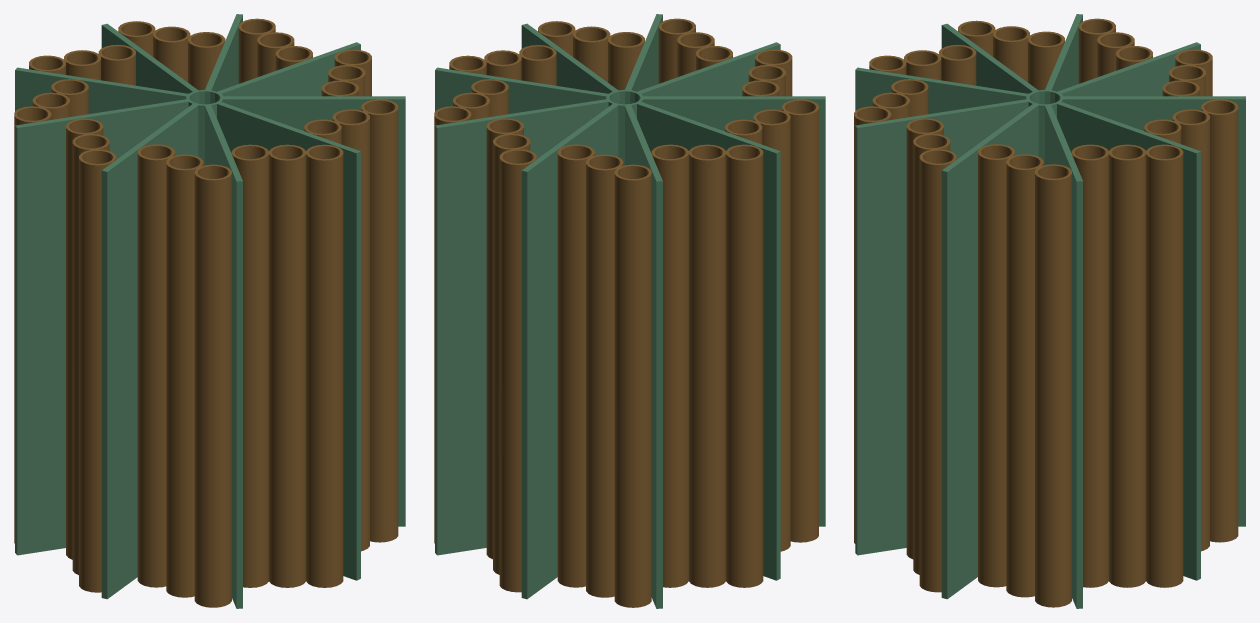
Rendered from Centriole.obj.
3 renders of one model, left to right at view 1: azimuth 30°, elevation 25°; view 2: azimuth 150°, elevation 25°; view 3: azimuth 270°, elevation 25°, orthographic.
Parts seen in each view (by area): view 1: Centriole Centriole Cell, Centriole Cell Microtubule1 Microtubule_Triplet_6, Centriole Cell Microtubule1 Microtubule_Triplet_5, Centriole Cell Microtubule_Triplet_5 Microtubule2, Centriole Cell Microtubule_Triplet_6 Microtubule3, Centriole Cell Microtubule1 Microtubule_Triplet_4, Centriole Cell Microtubule_Triplet_6 Microtubule2, Centriole Cell Microtubule_Triplet_5 Microtubule3, Centriole Cell Microtubule1 Microtubule_Triplet_7, Centriole Cell Microtubule_Triplet_4 Microtubule2, Centriole Cell Microtubule_Triplet_7 Microtubule3, Centriole Cell Microtubule_Triplet_7 Microtubule2 (+16 smaller); view 2: Centriole Centriole Cell, Centriole Cell Microtubule1 Microtubule_Triplet_9, Centriole Cell Microtubule1 Microtubule_Triplet_8, Centriole Cell Microtubule_Triplet_8 Microtubule2, Centriole Cell Microtubule_Triplet_9 Microtubule2, Centriole Cell Microtubule_Triplet_9 Microtubule3, Centriole Cell Microtubule1 Microtubule_Triplet_7, Centriole Cell Microtubule_Triplet_8 Microtubule3, Centriole Cell Microtubule1 Microtubule_Triplet_1, Centriole Cell Microtubule_Triplet_7 Microtubule2, Centriole Cell Microtubule_Triplet_1 Microtubule2, Centriole Cell Microtubule_Triplet_1 Microtubule3 (+16 smaller); view 3: Centriole Centriole Cell, Centriole Cell Microtubule1 Microtubule_Triplet_2, Centriole Cell Microtubule1 Microtubule_Triplet_3, Centriole Cell Microtubule_Triplet_2 Microtubule2, Centriole Cell Microtubule1 Microtubule_Triplet_1, Centriole Cell Microtubule_Triplet_3 Microtubule2, Centriole Cell Microtubule_Triplet_3 Microtubule3, Centriole Cell Microtubule_Triplet_2 Microtubule3, Centriole Cell Microtubule1 Microtubule_Triplet_4, Centriole Cell Microtubule_Triplet_1 Microtubule2, Centriole Cell Microtubule_Triplet_4 Microtubule3, Centriole Cell Microtubule_Triplet_4 Microtubule2 (+16 smaller).
Boxes of the visible parts, x1,y1,x2,y2 form: Centriole Centriole Cell: (15, 14, 405, 608); Centriole Cell Microtubule1 Microtubule_Triplet_6: (194, 164, 231, 607); Centriole Cell Microtubule1 Microtubule_Triplet_5: (306, 144, 343, 587); Centriole Cell Microtubule_Triplet_5 Microtubule2: (269, 144, 305, 587); Centriole Cell Microtubule_Triplet_6 Microtubule3: (137, 144, 174, 587); Centriole Cell Microtubule1 Microtubule_Triplet_4: (361, 99, 398, 542); Centriole Cell Microtubule_Triplet_6 Microtubule2: (166, 154, 203, 597); Centriole Cell Microtubule_Triplet_5 Microtubule3: (231, 144, 268, 587); Centriole Cell Microtubule1 Microtubule_Triplet_7: (79, 149, 116, 592); Centriole Cell Microtubule_Triplet_4 Microtubule2: (332, 109, 369, 551); Centriole Cell Microtubule_Triplet_7 Microtubule3: (66, 118, 103, 559); Centriole Cell Microtubule_Triplet_7 Microtubule2: (72, 134, 109, 574); Centriole Centriole Cell: (435, 14, 825, 608); Centriole Cell Microtubule1 Microtubule_Triplet_9: (614, 164, 651, 607); Centriole Cell Microtubule1 Microtubule_Triplet_8: (726, 144, 763, 587); Centriole Cell Microtubule_Triplet_8 Microtubule2: (689, 144, 725, 587); Centriole Cell Microtubule_Triplet_9 Microtubule2: (586, 154, 623, 597); Centriole Cell Microtubule_Triplet_9 Microtubule3: (557, 144, 594, 587); Centriole Cell Microtubule1 Microtubule_Triplet_7: (782, 99, 818, 542); Centriole Cell Microtubule_Triplet_8 Microtubule3: (651, 144, 688, 587); Centriole Cell Microtubule1 Microtubule_Triplet_1: (499, 149, 536, 592); Centriole Cell Microtubule_Triplet_7 Microtubule2: (753, 109, 790, 551); Centriole Cell Microtubule_Triplet_1 Microtubule2: (493, 133, 530, 574); Centriole Cell Microtubule_Triplet_1 Microtubule3: (486, 118, 523, 559); Centriole Centriole Cell: (855, 14, 1245, 608); Centriole Cell Microtubule1 Microtubule_Triplet_2: (1146, 144, 1183, 587); Centriole Cell Microtubule1 Microtubule_Triplet_3: (1035, 164, 1071, 607); Centriole Cell Microtubule_Triplet_2 Microtubule2: (1109, 144, 1145, 587); Centriole Cell Microtubule1 Microtubule_Triplet_1: (1201, 99, 1238, 542); Centriole Cell Microtubule_Triplet_3 Microtubule2: (1006, 154, 1043, 597); Centriole Cell Microtubule_Triplet_3 Microtubule3: (978, 144, 1014, 587); Centriole Cell Microtubule_Triplet_2 Microtubule3: (1071, 144, 1108, 587); Centriole Cell Microtubule1 Microtubule_Triplet_4: (919, 149, 956, 592); Centriole Cell Microtubule_Triplet_1 Microtubule2: (1172, 109, 1209, 551); Centriole Cell Microtubule_Triplet_4 Microtubule3: (906, 118, 943, 559); Centriole Cell Microtubule_Triplet_4 Microtubule2: (913, 133, 950, 574).
Bounding box in the file's own units: 10.94 × 13 × 10.8.
